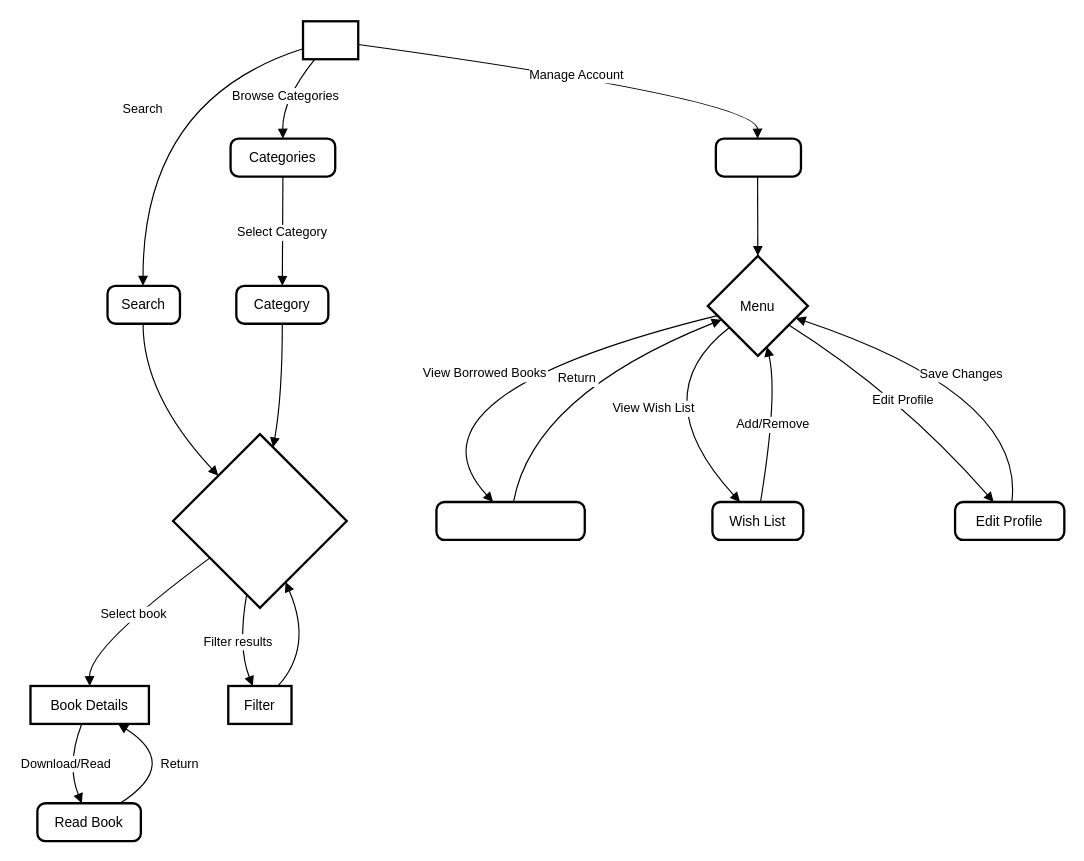
The diagram is 1084 pixels wide and 861 high, and some of its shapes have lost their labels. The box of each missing label's shape, as (x1, y1, x2, y2) in pixels:
Account: (714, 137, 802, 177)
Borrowed Books: (435, 500, 585, 540)
Search Results: (171, 432, 347, 608)
User: (301, 20, 359, 60)
